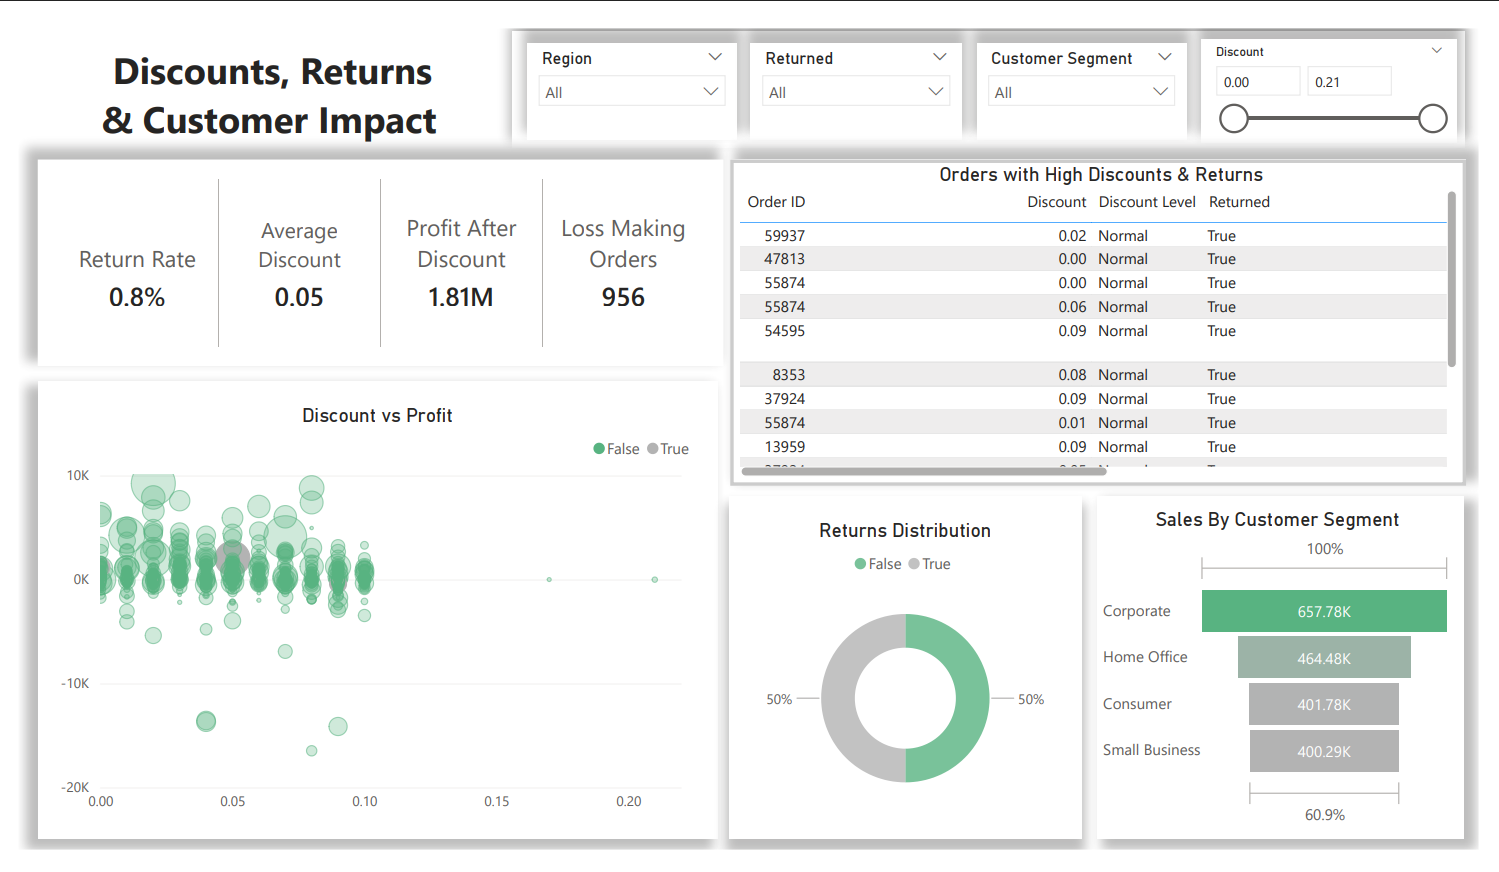

Layout of this report page (visuals, bound fields, positions):
{"tool":"powerbi","page":{"name":"Discounts, Returns & Customer Impact","canvas":[1280,720],"ordinal":2},"visuals":[{"type":"textbox","box":[432.8,2.9,835.4,102],"z":0},{"type":"cardVisual","fields":{"Data":["Orders.Return Rate (%)","Orders.Average Discount","Orders.Profit After Discount","Orders.Loss Making Orders"]},"box":[17,115.3,601.5,180.9],"z":1000},{"type":"slicer","fields":{"Values":["Orders.Region"]},"box":[445.8,13,184.7,85.1],"z":2000},{"type":"slicer","fields":{"Values":["Orders.Discount"]},"box":[1037.3,8.7,223.6,90.9],"z":3000},{"type":"slicer","fields":{"Values":["Orders.Customer Segment"]},"box":[839.7,13,184.7,85.1],"z":4000},{"type":"slicer","fields":{"Values":["Orders.Returned"]},"box":[642,13,184.7,85.1],"z":5000},{"type":"scatterChart","title":"Discount vs Profit","fields":{"X":["Orders.Discount"],"Y":["Orders.Profit"],"Size":["Sum(Orders.Sales)"],"Series":["Orders.Returned"]},"box":[17.3,308.8,595.9,401.1],"z":6000},{"type":"donutChart","title":"Returns Distribution","fields":{"Category":["Orders.Returned"],"Y":["Orders.Returned Orders"]},"box":[623.3,409.7,308.8,300.1],"z":7000},{"type":"tableEx","title":"Orders with High Discounts & Returns","fields":{"Values":["Orders.Order ID","Orders.Discount","Orders.Discount Level","Orders.Returned","Orders.Profit","Orders.Product Name"]},"box":[623.8,115,645,286.2],"z":8000},{"type":"funnel","title":"Sales By Customer Segment","fields":{"Category":["Orders.Customer Segment"],"Y":["Sum(Orders.Sales)"]},"box":[946.5,409.7,320.3,300.1],"z":9000},{"type":"textbox","box":[7.2,8.7,425.6,106.8],"z":10000}]}

Visuals, with their boxes on the page's 1280x720 design canvas (x1, y1, x2, y2). These are canvas units, not pixel positions in the 1499x872 screenshot, which may show the page scaled, cropped or inside an application window:
textbox: box(433, 3, 1268, 105)
cardVisual - Orders.Return Rate (%) x Orders.Average Discount: box(17, 115, 618, 296)
slicer - Orders.Region: box(446, 13, 630, 98)
slicer - Orders.Discount: box(1037, 9, 1261, 100)
slicer - Orders.Customer Segment: box(840, 13, 1024, 98)
slicer - Orders.Returned: box(642, 13, 827, 98)
"Discount vs Profit" scatterChart: box(17, 309, 613, 710)
"Returns Distribution" donutChart: box(623, 410, 932, 710)
"Orders with High Discounts & Returns" tableEx: box(624, 115, 1269, 401)
"Sales By Customer Segment" funnel: box(946, 410, 1267, 710)
textbox: box(7, 9, 433, 116)
